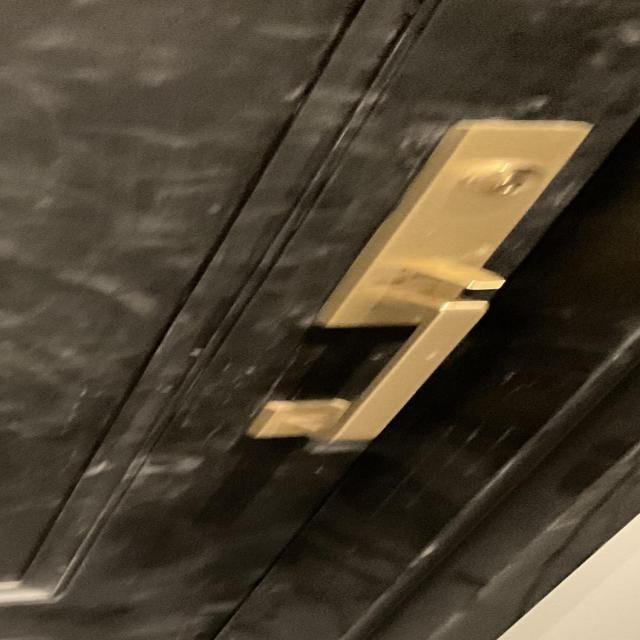door_handle: (228, 291, 525, 450)
